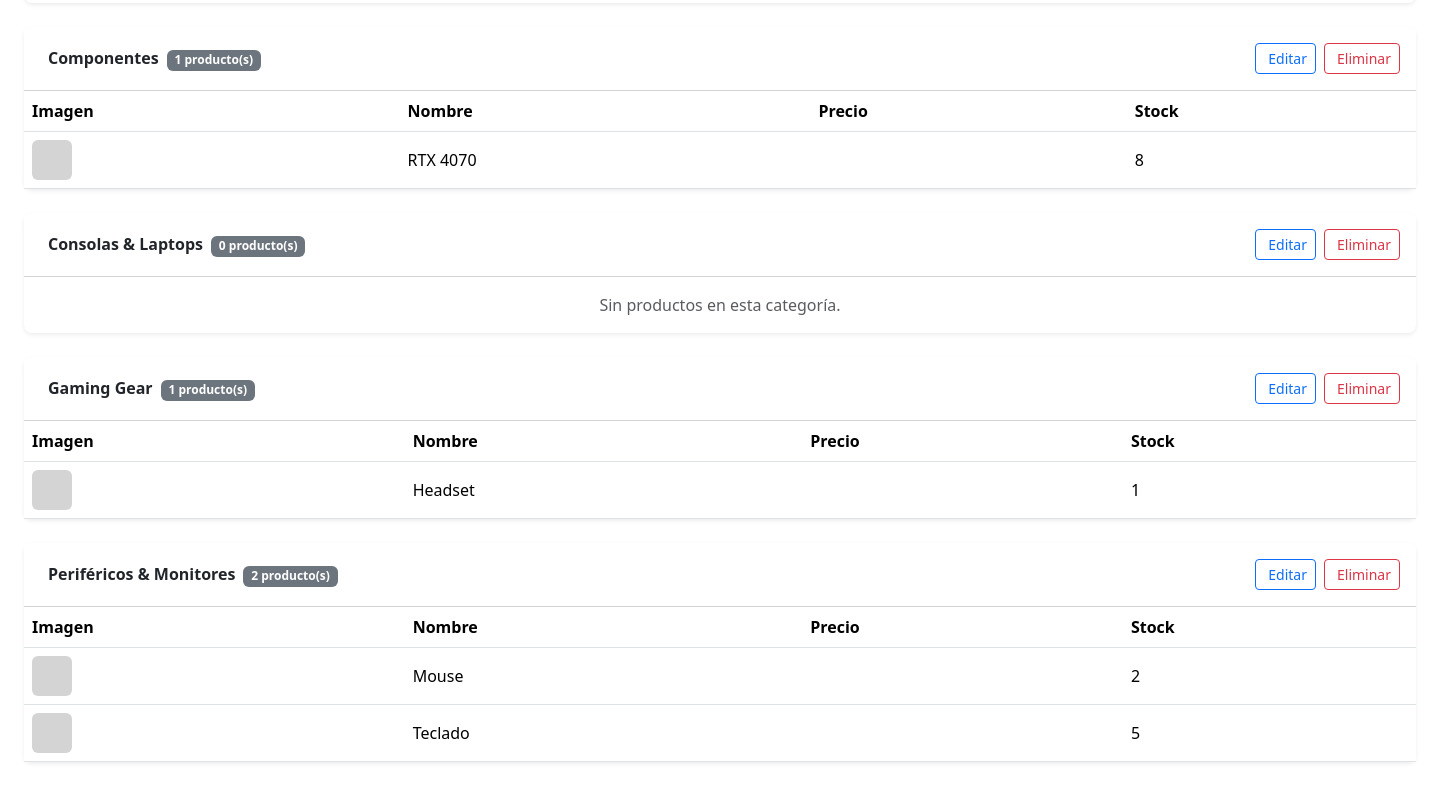
Test case: AdminCategorias › editar › "Cancelar" cierra el formulario de edición
(page scrolled)
Expected: the text "Periféricos & Monitores" is shown, [48,563,235,585]
Step 1. Click the button "Editar" in the row of "Periféricos & Monitores" → (1286, 574), box [1255,559,1316,590]
(page scrolled)
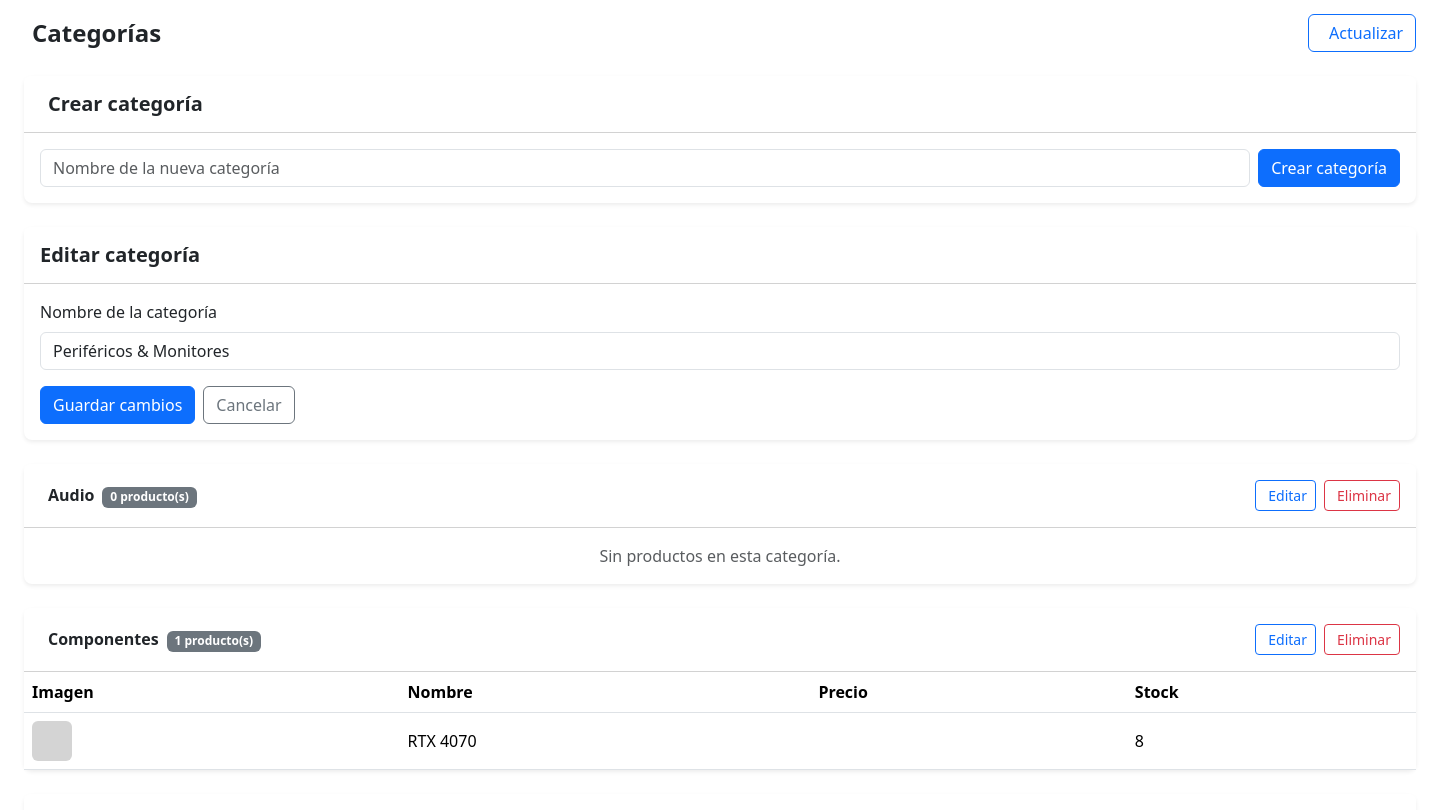
Step 2. Click the button "Cancelar" → (249, 405), box [203,386,295,424]
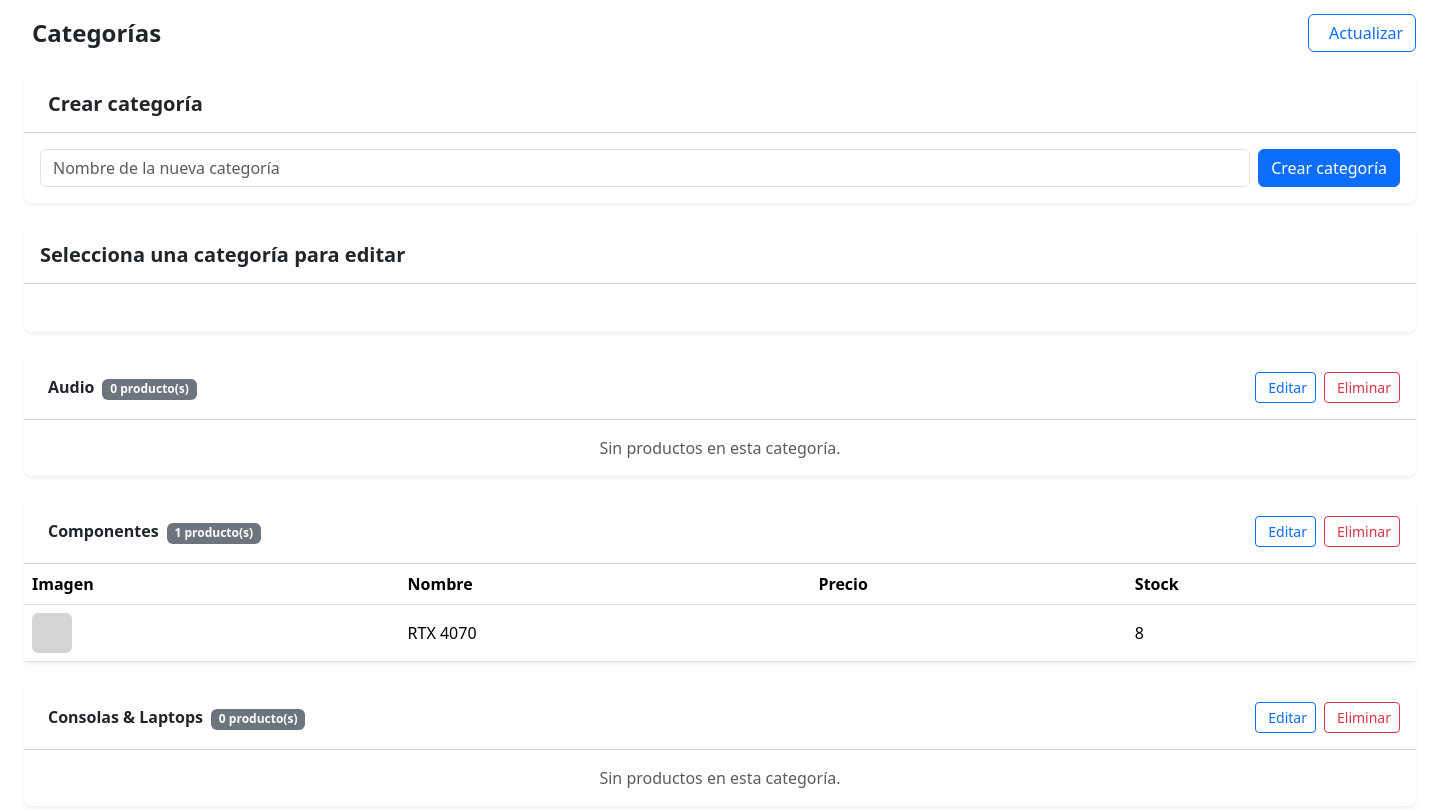
Now the label labelled "Nombre de la categoría" is gone
